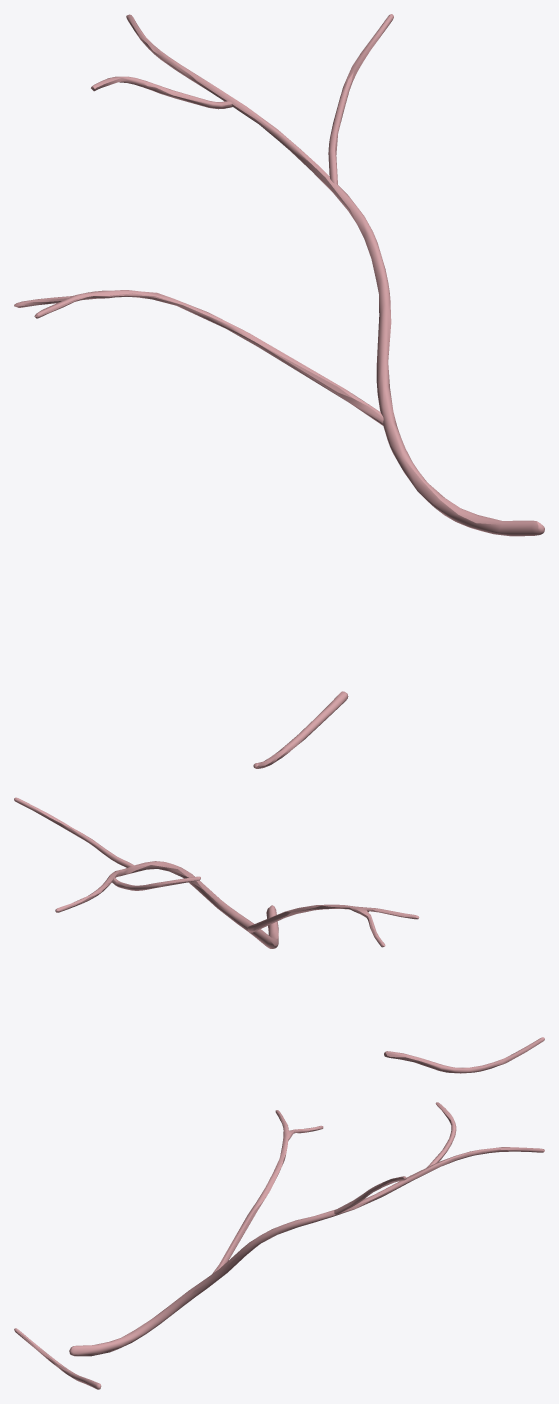
File: fma71869_cx221.glb
3 renders of one model, top to bottom at view 1: azimuth 30°, elevation 25°; view 2: azimuth 150°, elevation 25°; view 3: azimuth 270°, elevation 25°, orthographic. The views are drawn at different scales.
Visible parts, largest first — view 1: FMA71869_CX221; view 2: FMA71869_CX221; view 3: FMA71869_CX221.
Part boxes in pixels (x1=…): FMA71869_CX221: x1=14, y1=14, x2=544, y2=768; FMA71869_CX221: x1=14, y1=797, x2=544, y2=1073; FMA71869_CX221: x1=14, y1=1102, x2=544, y2=1389.
Size of the model in its own units: 0.0467 by 0.0462 by 0.0704.
